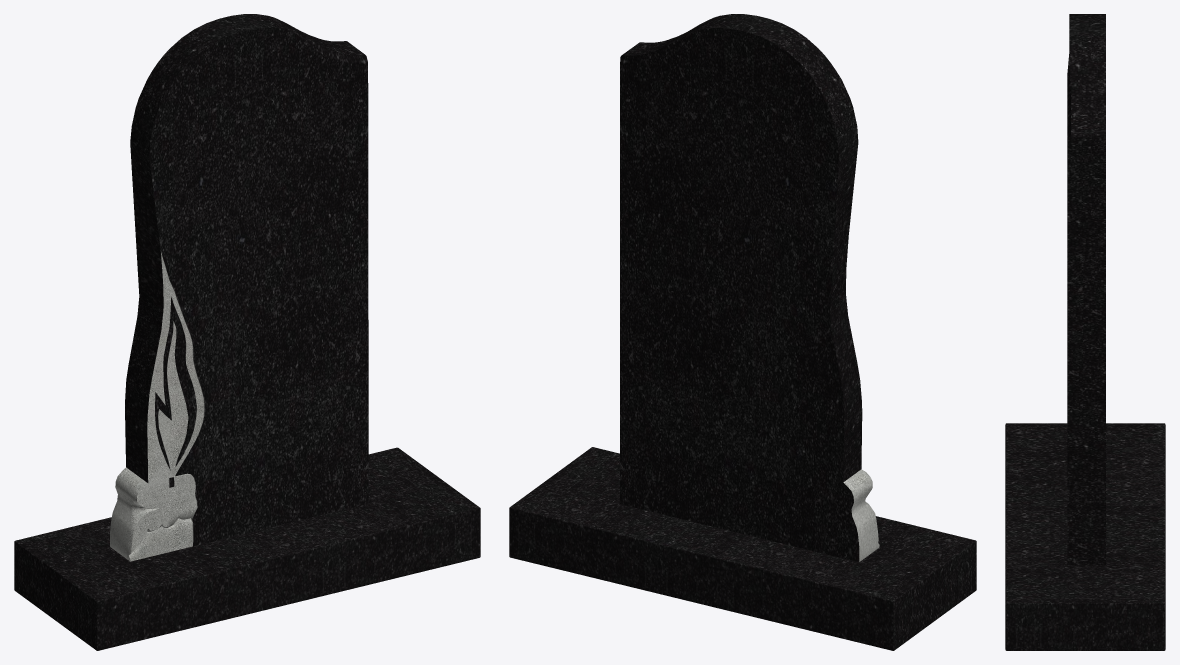
File: Number 5.gltf
3 renders of one model, left to right at view 1: azimuth 30°, elevation 25°; view 2: azimuth 150°, elevation 25°; view 3: azimuth 270°, elevation 25°, orthographic. The views are drawn at different scales.
Parts seen in each view (by area): view 1: 5.001, Base 80.001; view 2: 5.001, Base 80.001; view 3: Base 80.001, 5.001.
Boxes of the visible parts, left/top/right/bottom form: 5.001: left=110, top=14, right=368, bottom=561; Base 80.001: left=14, top=447, right=480, bottom=650; 5.001: left=620, top=14, right=879, bottom=562; Base 80.001: left=509, top=447, right=976, bottom=650; Base 80.001: left=1005, top=423, right=1165, bottom=650; 5.001: left=1067, top=14, right=1105, bottom=565.
Size of the model in its own units: 0.8 by 1.1 by 0.3.
2 materials, 2 textured.
